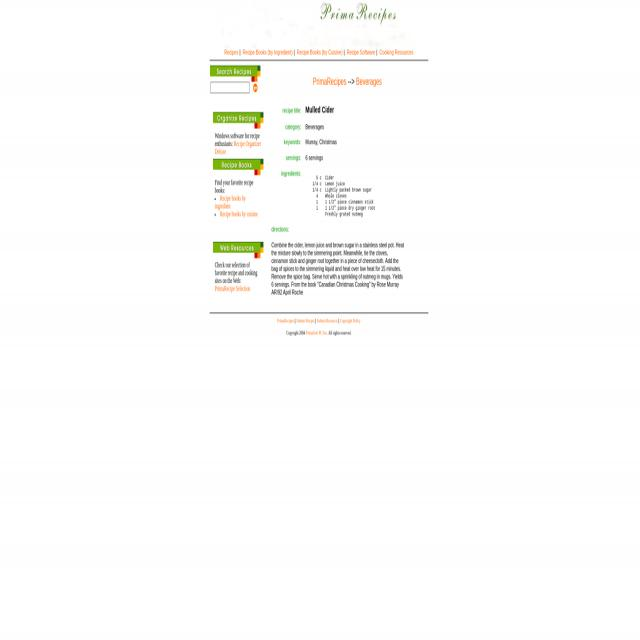button: (222, 0, 415, 48), (213, 112, 264, 129), (210, 65, 260, 82), (213, 159, 264, 175), (213, 242, 264, 258)
field: (210, 81, 250, 93), (252, 84, 258, 91)
